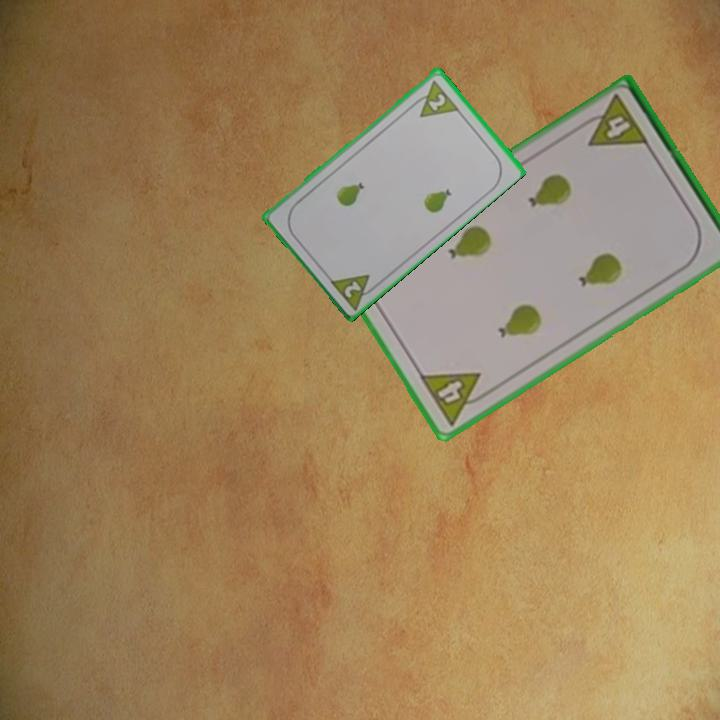2p: (408, 75, 461, 120), (326, 270, 382, 312)
4p: (415, 369, 494, 429), (575, 91, 652, 151)
